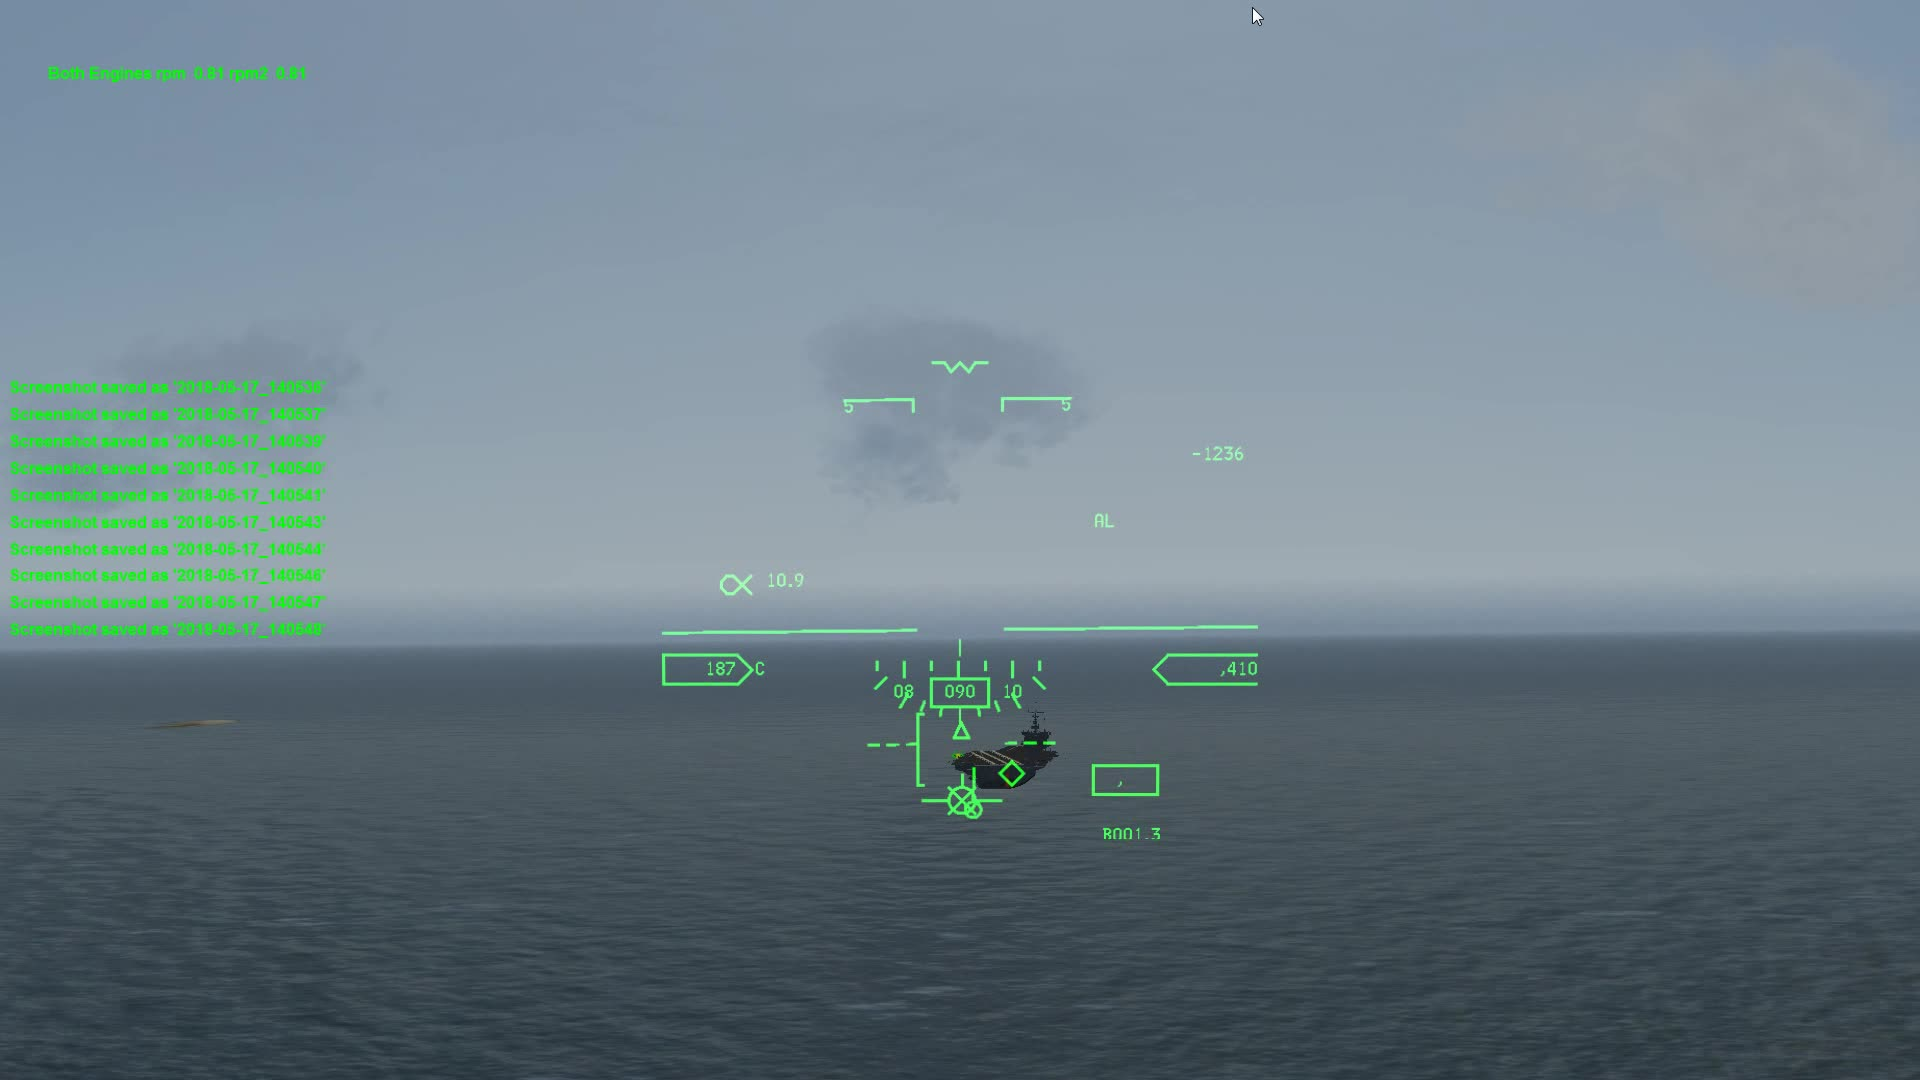speed vector: (924, 773, 1010, 822)
